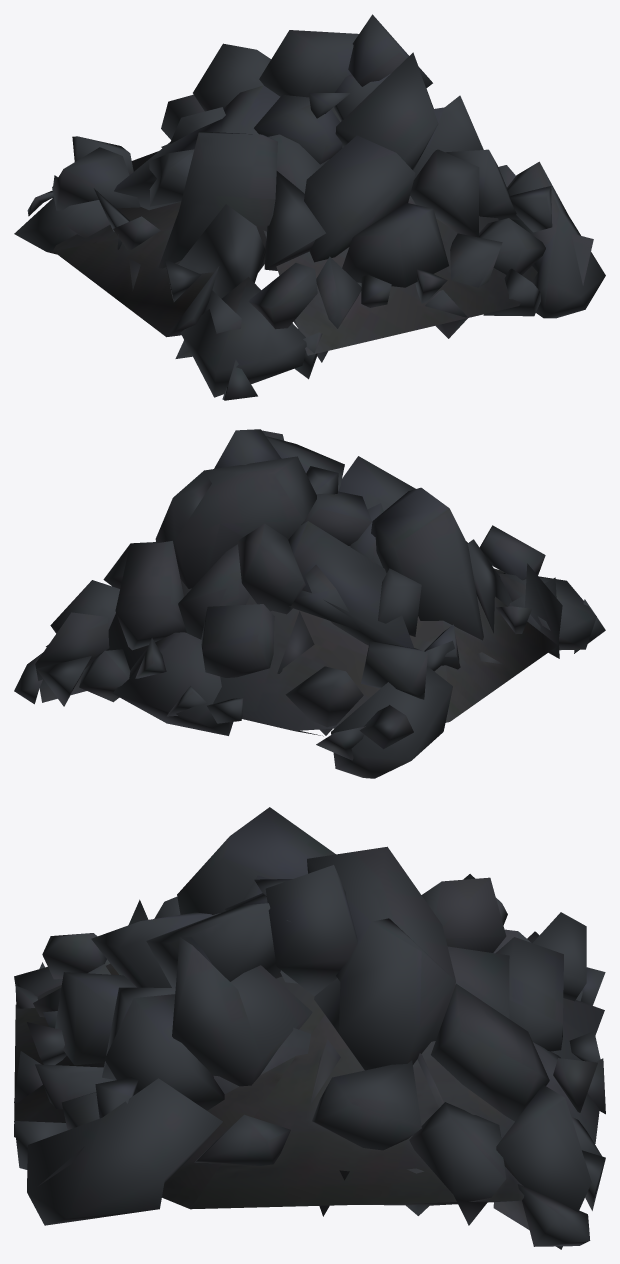
File: source_energy-lod0.5523e9416ea8.glb
3 renders of one model, top to bottom at view 1: azimuth 30°, elevation 25°; view 2: azimuth 150°, elevation 25°; view 3: azimuth 270°, elevation 25°, orthographic. The views are drawn at different scales.
Size of the model in its own units: 1 by 0.5873 by 1.
1 material, 1 textured.
